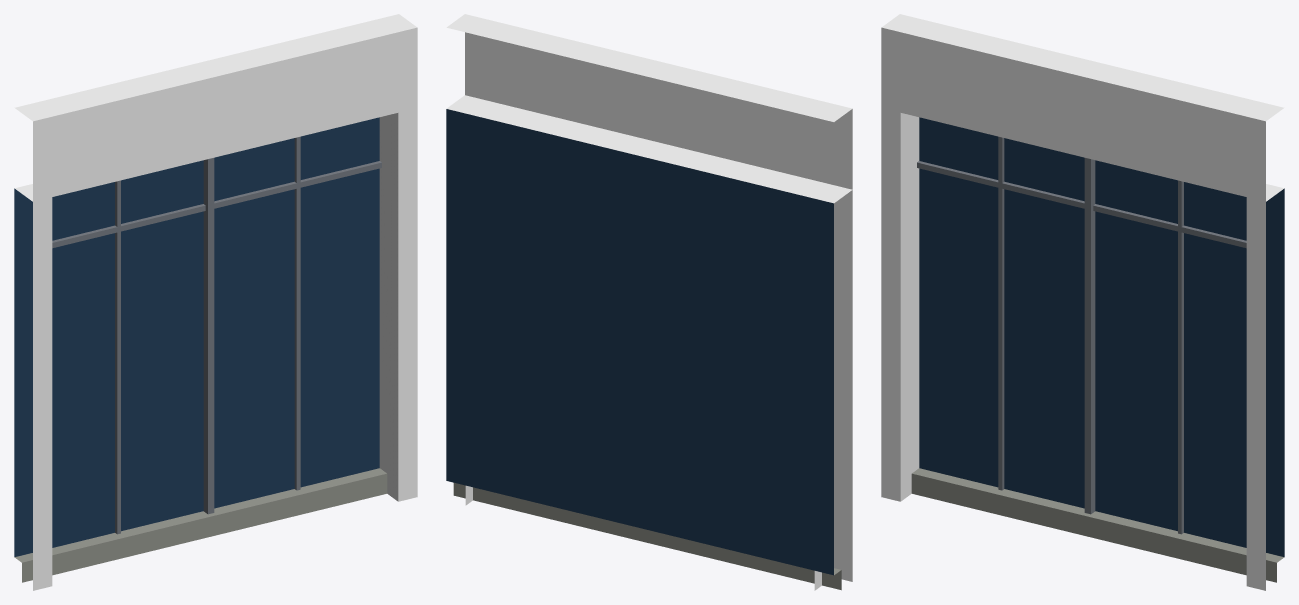
File: base-w1_close.fbx
3 renders of one model, left to right at view 1: azimuth 30°, elevation 25°; view 2: azimuth 150°, elevation 25°; view 3: azimuth 330°, elevation 25°, orthographic.
Parts seen in each view (by area): view 1: a2002/400/base-w1_close; view 2: a2002/400/base-w1_close; view 3: a2002/400/base-w1_close.
Boxes of the visible parts, left/top/right/bottom form: a2002/400/base-w1_close: left=14, top=14, right=417, bottom=590; a2002/400/base-w1_close: left=446, top=14, right=852, bottom=590; a2002/400/base-w1_close: left=881, top=14, right=1284, bottom=590.
Size of the model in its own units: 3 by 3.5 by 0.25.
